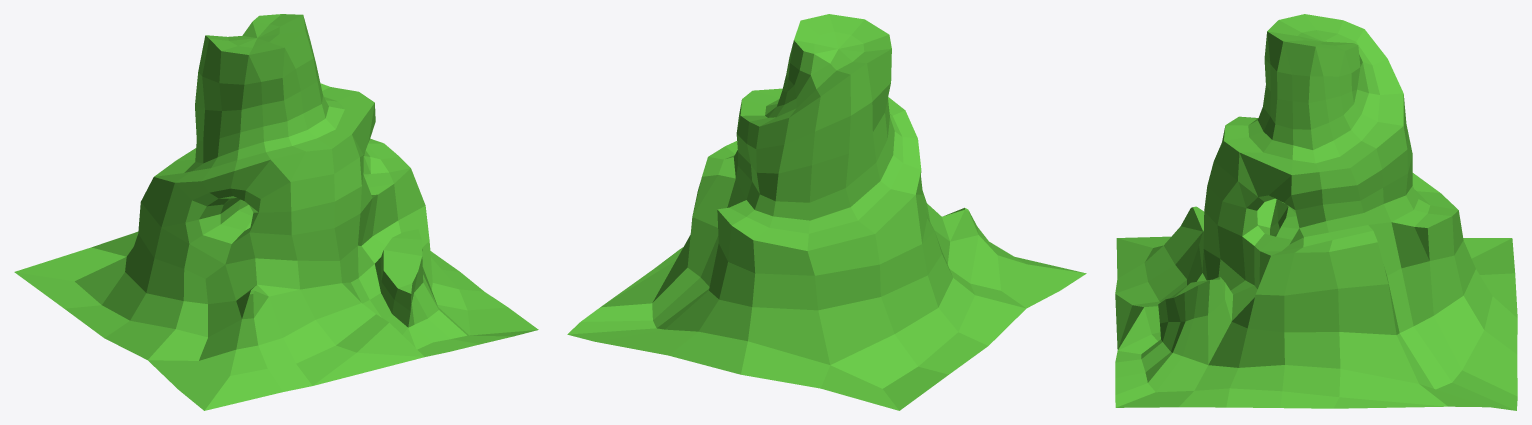
File: Terrain.fbx
3 renders of one model, left to right at view 1: azimuth 30°, elevation 25°; view 2: azimuth 150°, elevation 25°; view 3: azimuth 270°, elevation 25°, orthographic. The views are drawn at different scales.
Parts seen in each view (by area): view 1: RetopoFlow; view 2: RetopoFlow; view 3: RetopoFlow.
Boxes of the visible parts, x1,y1,x2,y2 form: RetopoFlow: (14, 14, 538, 410); RetopoFlow: (567, 14, 1086, 410); RetopoFlow: (1115, 14, 1517, 410).
Size of the model in its own units: 4554 by 3740 by 4555.
